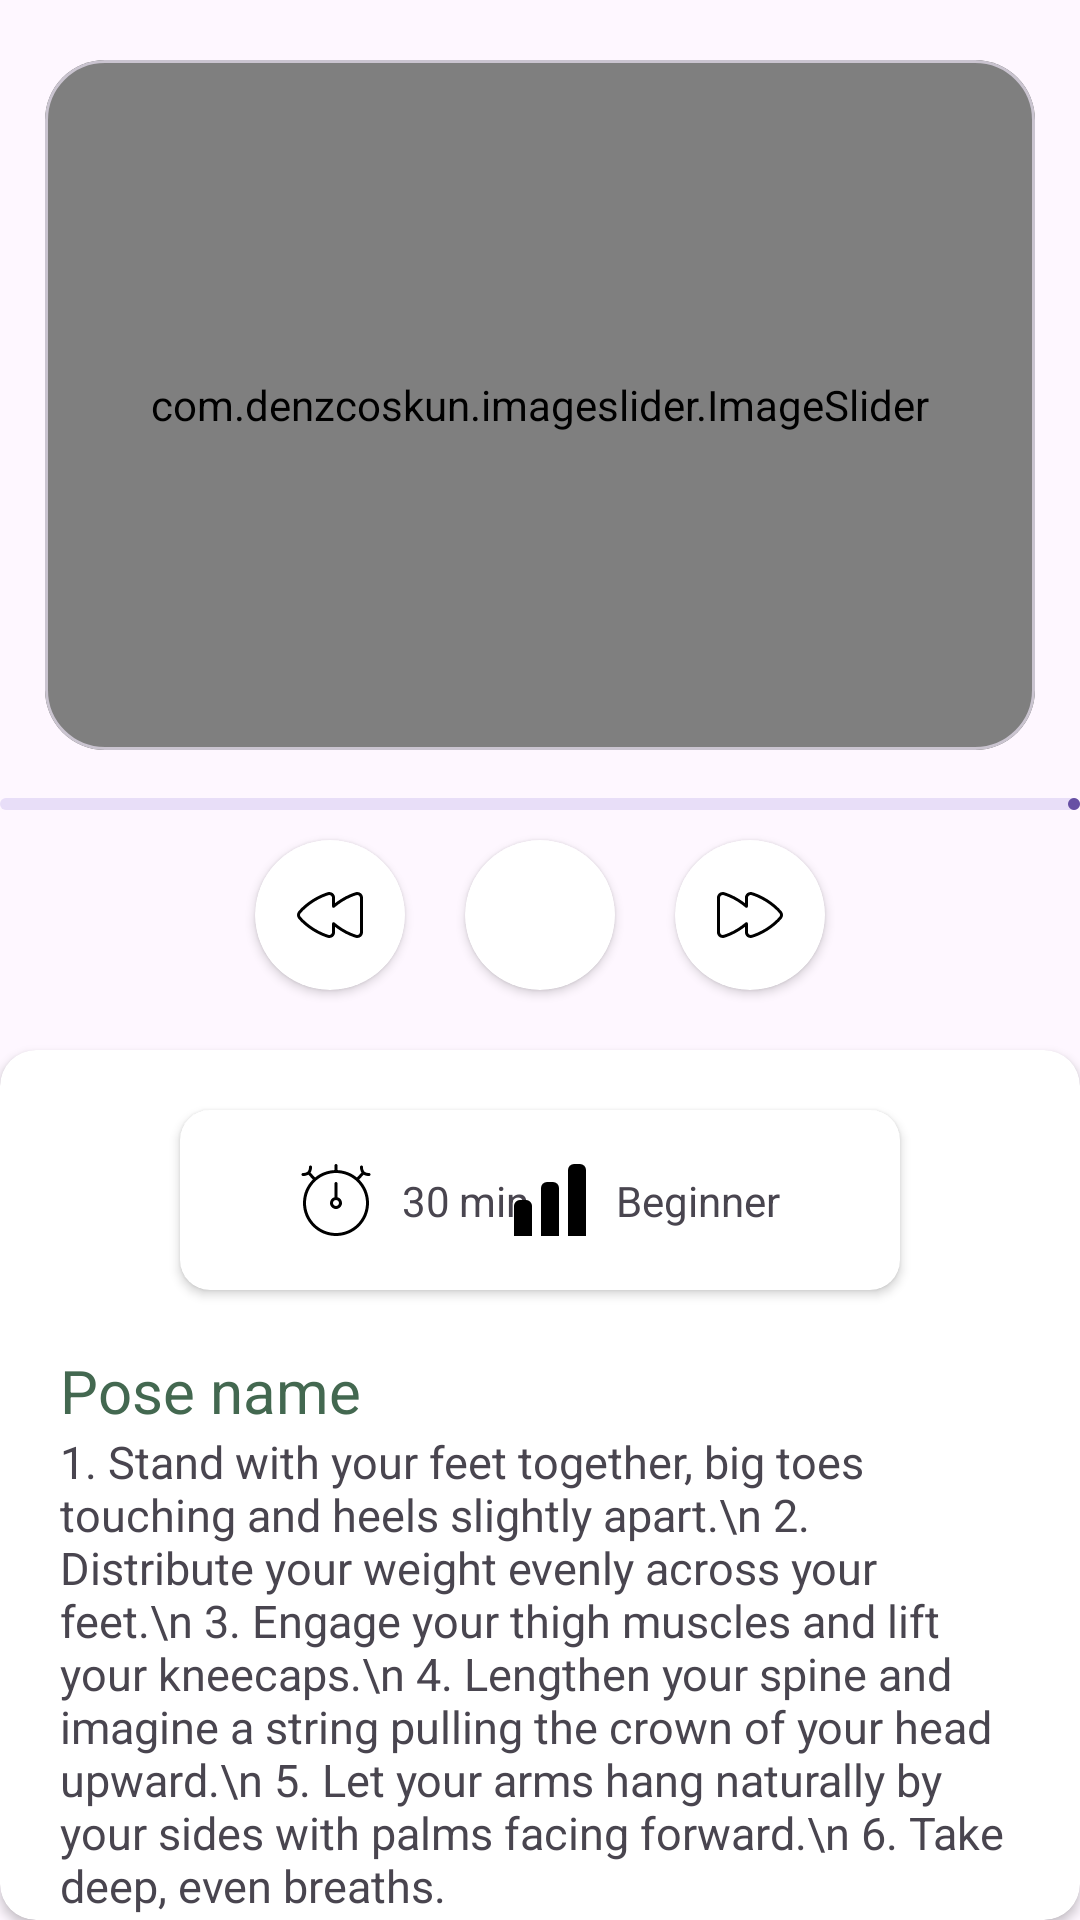

Icon bounding boxes for this 1080×1920 phone screenshot, format (x1, y1, x2, y2):
forward: (675, 840, 825, 990)
rewind: (255, 840, 405, 990)
signal: (514, 1164, 586, 1236)
stopwatch: (301, 1164, 371, 1236)
